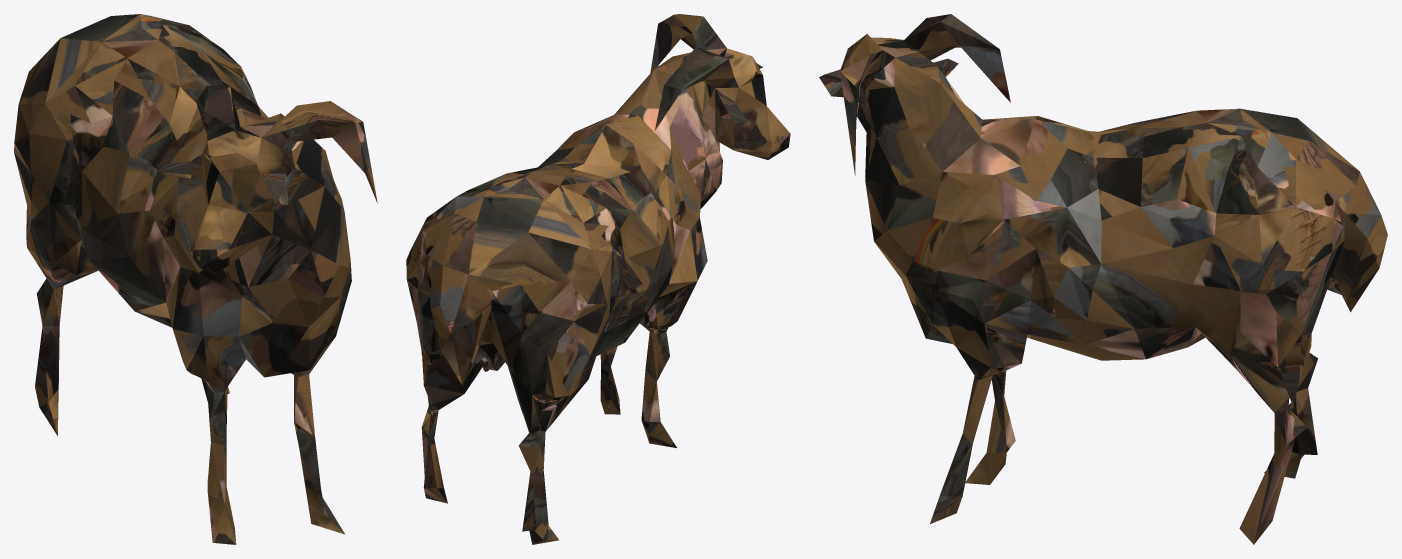
File: oveja.fbx
3 renders of one model, left to right at view 1: azimuth 30°, elevation 25°; view 2: azimuth 150°, elevation 25°; view 3: azimuth 270°, elevation 25°, orthographic. The views are drawn at different scales.
Visible parts, largest first — view 1: temp; view 2: temp; view 3: temp.
Boxes of the visible parts, left/top/right/bottom form: temp: left=14, top=14, right=377, bottom=544; temp: left=406, top=14, right=790, bottom=544; temp: left=819, top=14, right=1387, bottom=544.
Size of the model in its own units: 97.1 by 174 by 197.
